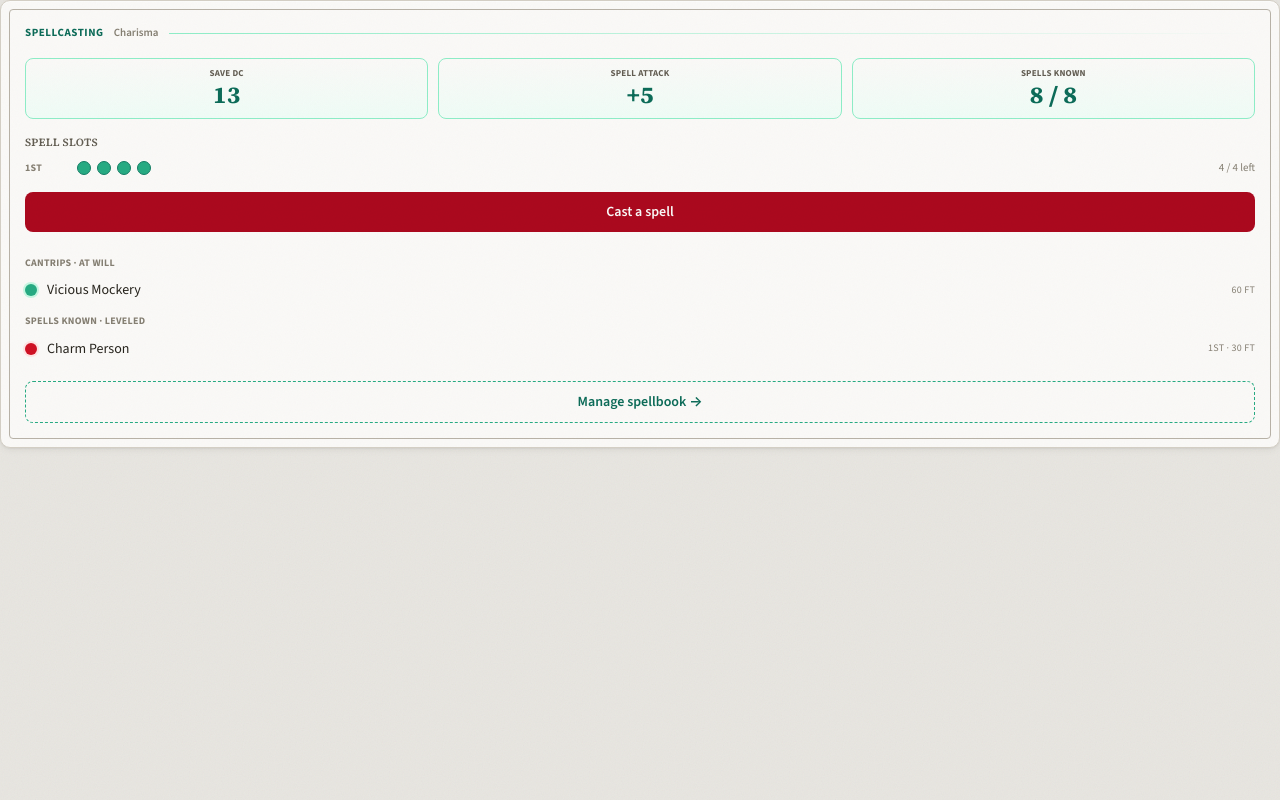
Test: SpellsSection grimoire — known caster (#1511) › renders no toggleable prepare rune on any leveled row
The width and height of the screenshot is (1280, 800).
Step 1. Click the button "Manage spellbook →" → (640, 402), box [25,381,1255,423]
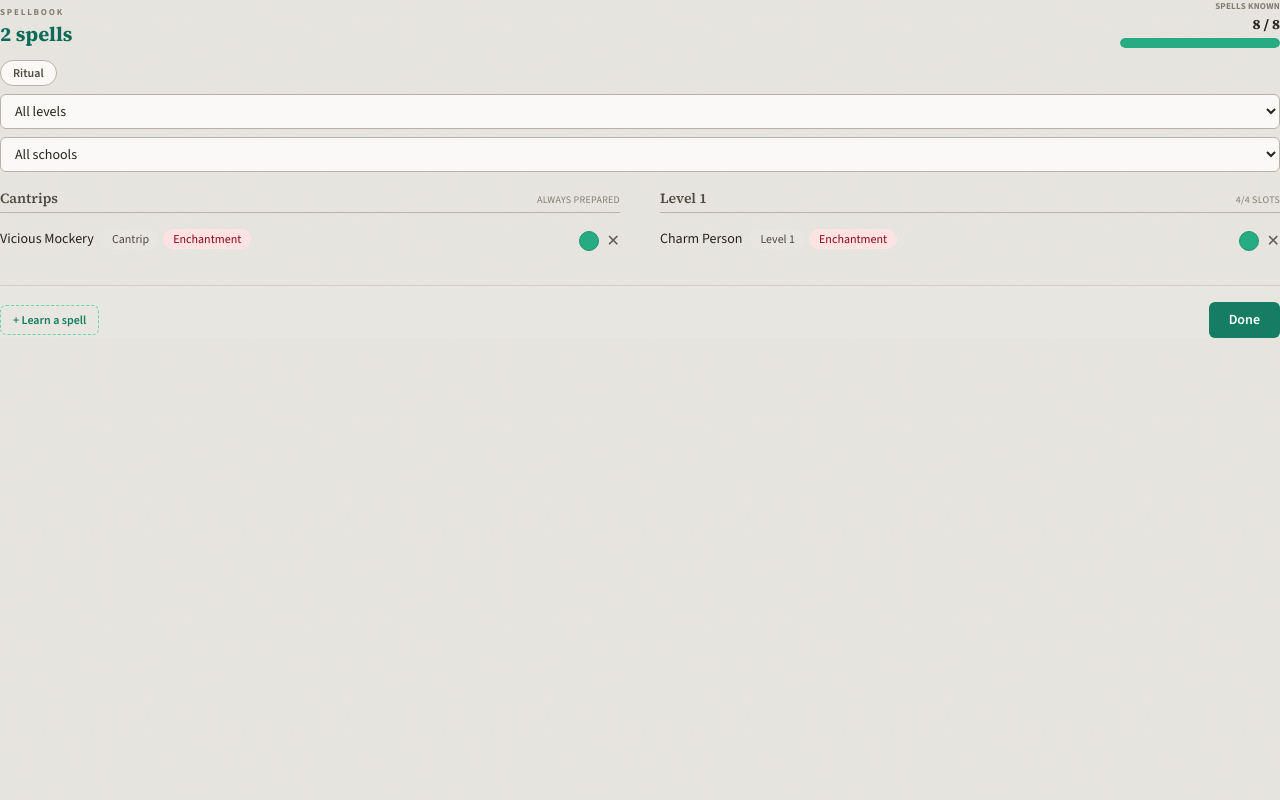
Expected: the element named "Known" below "always prepared" is shown, [579,230,599,250]
